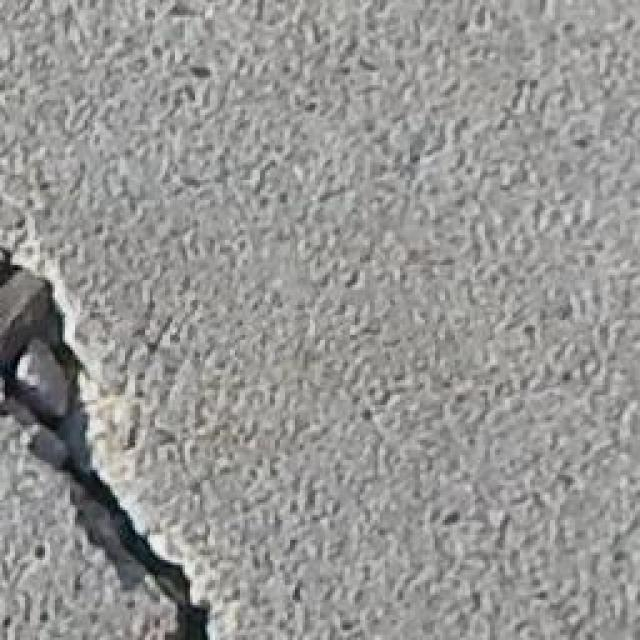concrete-crack: (0, 233, 223, 640)
